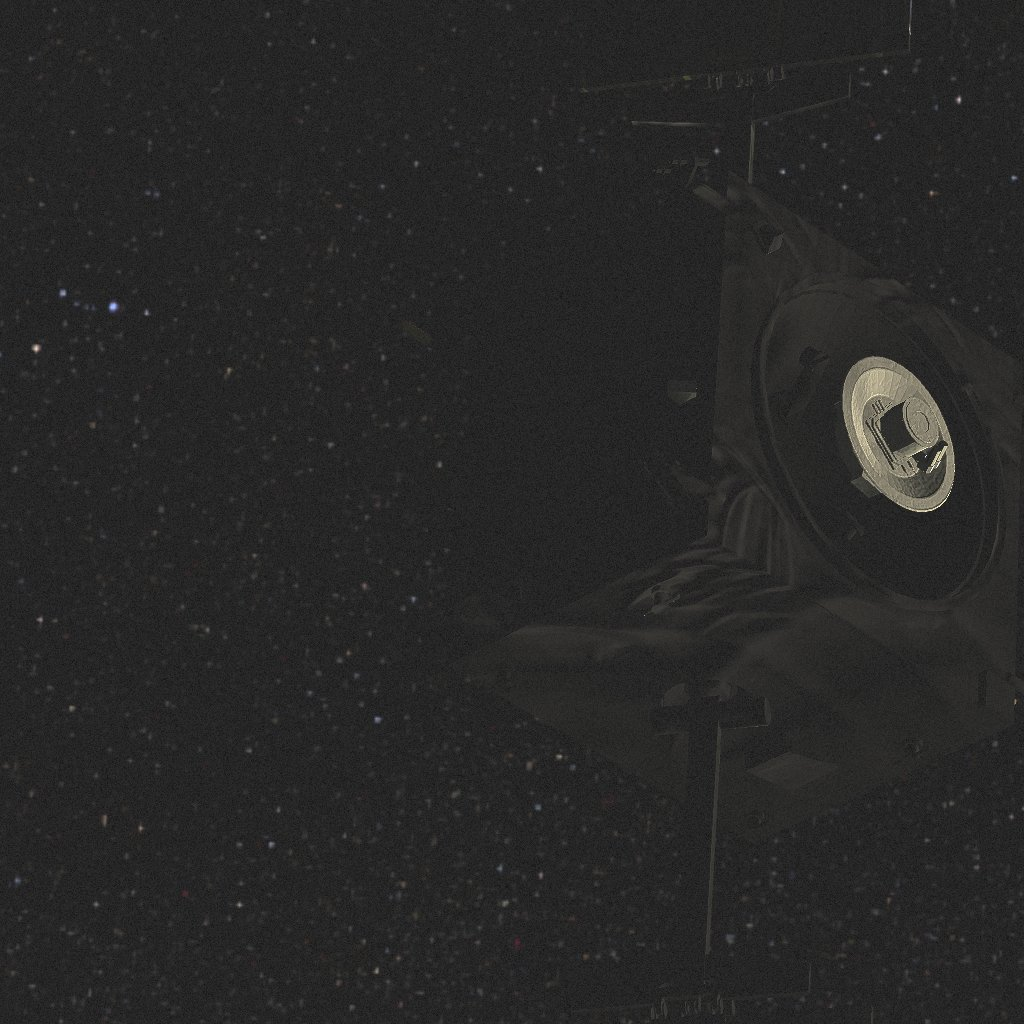smart_1: (403, 0, 1024, 1024)
